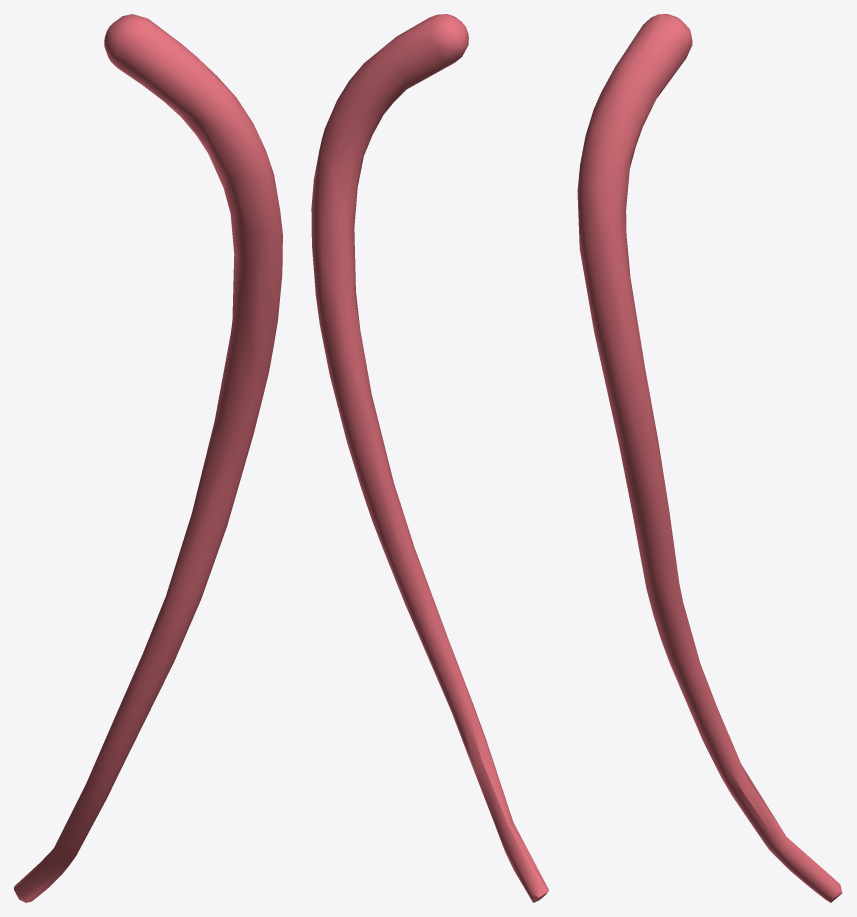
File: fma66359_fj3442.glb
3 views of the same model, side by side, from view 1: azimuth 30°, elevation 25°; view 2: azimuth 210°, elevation 25°; view 3: azimuth 270°, elevation 25° (orthographic). The views are drawn at different scales.
Parts seen in each view (by area): view 1: FMA66359_FJ3442; view 2: FMA66359_FJ3442; view 3: FMA66359_FJ3442.
Boxes of the visible parts, box(x1,y1,x2,y2) form: FMA66359_FJ3442: box(14, 14, 282, 902); FMA66359_FJ3442: box(311, 14, 548, 902); FMA66359_FJ3442: box(577, 14, 842, 902).
Size of the model in its own units: 0.0143 by 0.0872 by 0.0234.
